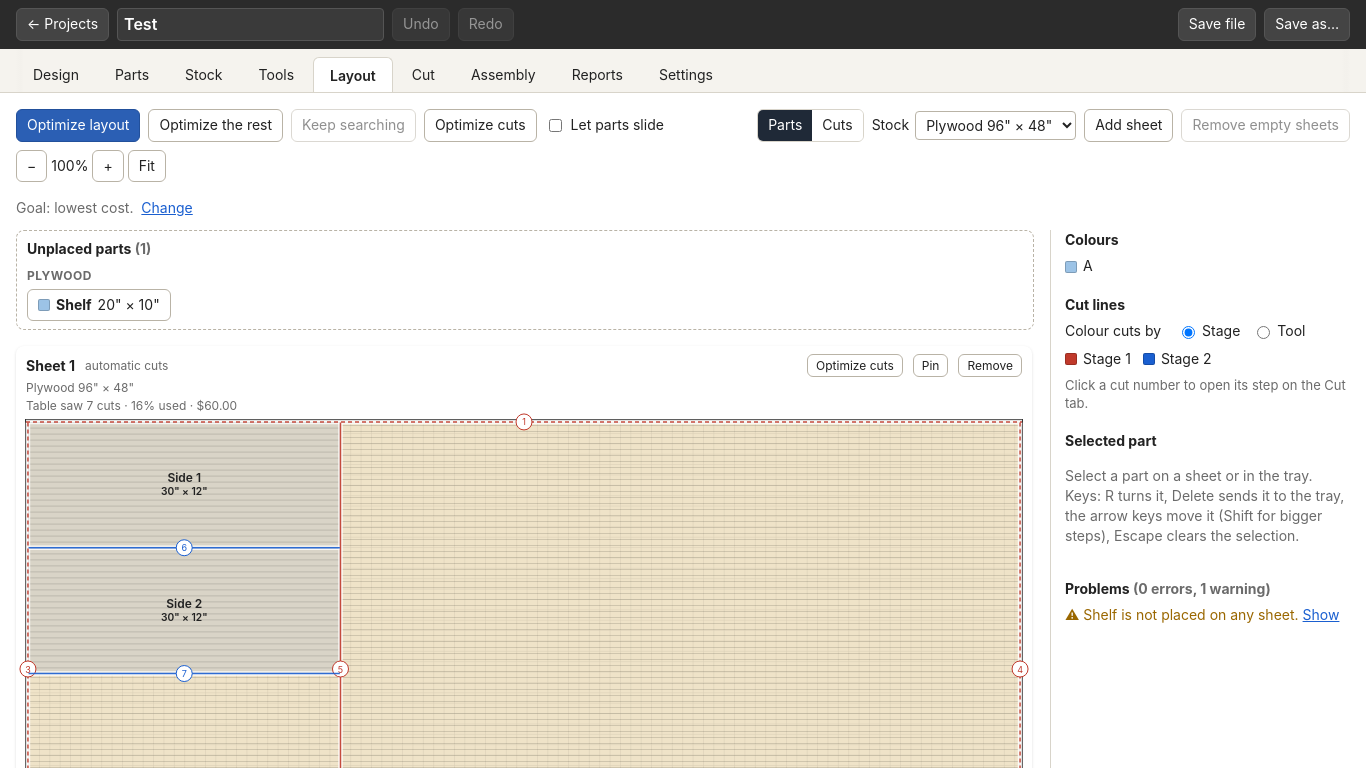
Workspace › keeps the choice of cut colours from the Layout tab
Click the radio button labelled "Tool". click: (1264, 333)
box: top-left (1257, 326), bottom-right (1270, 339)
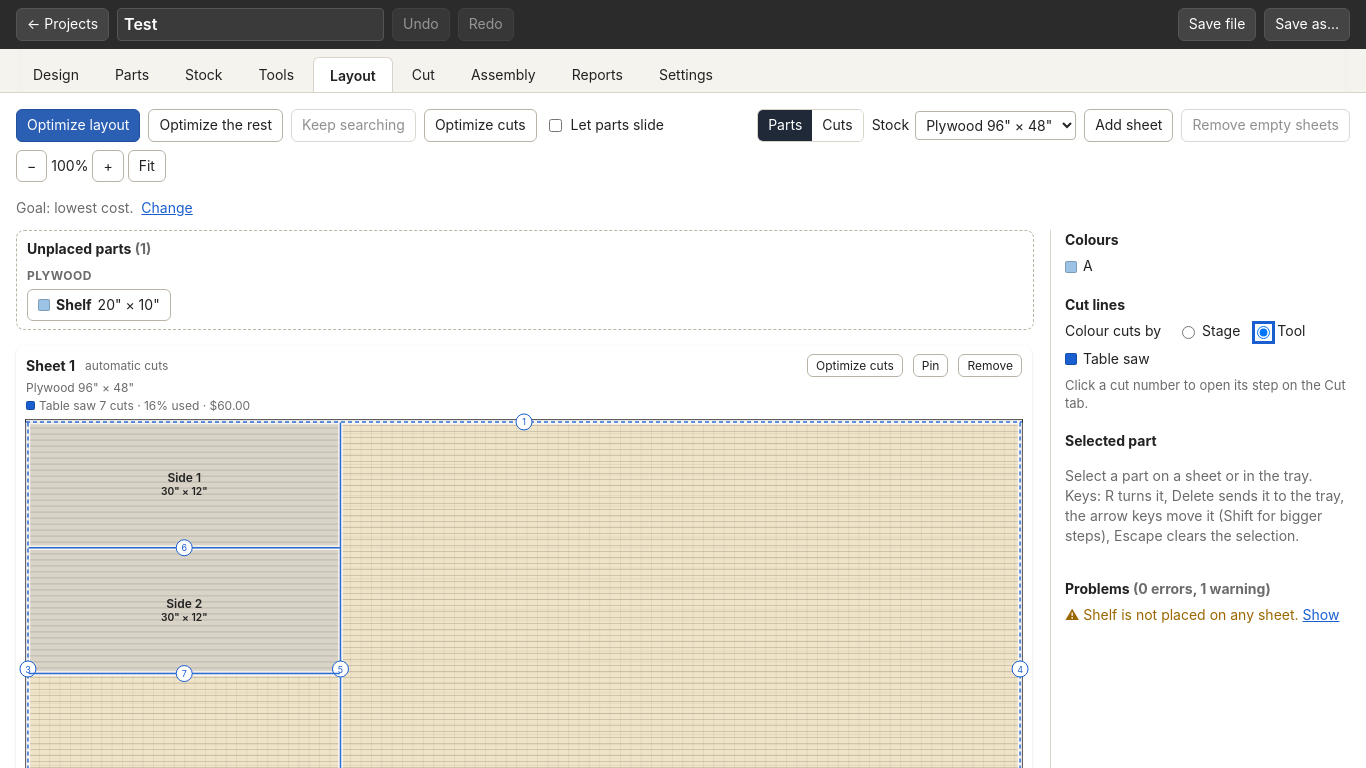
Check: the list named "Cut colours" reads "Table saw", box top-left (1083, 350), bottom-right (1150, 367)
